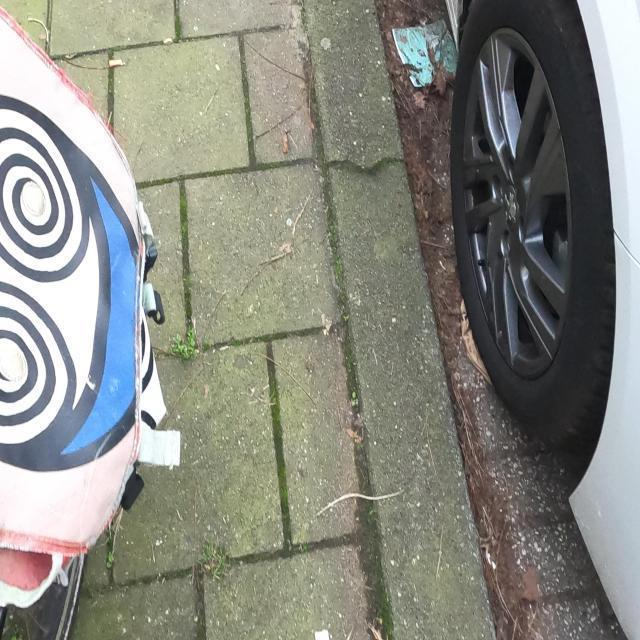Plastic: (391, 16, 456, 92)
